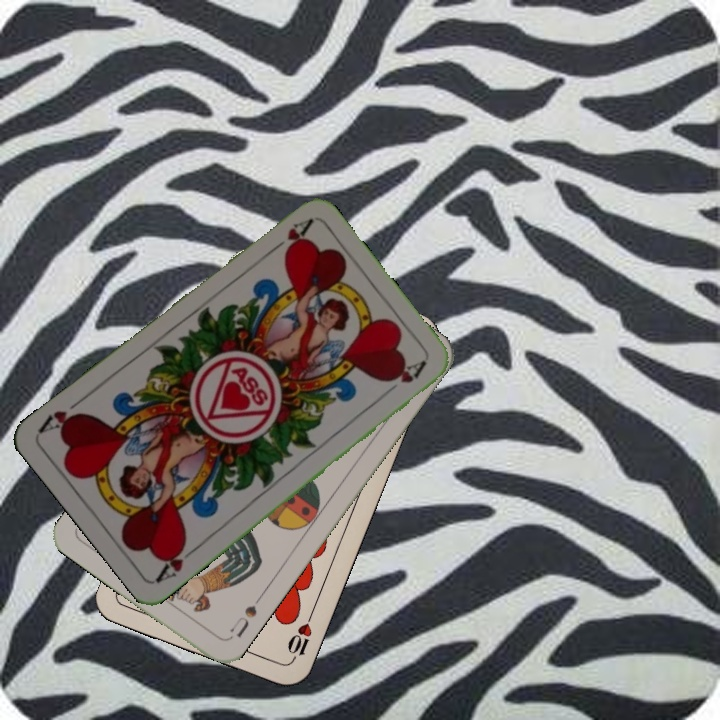H10: (283, 609, 316, 666)
HA: (152, 538, 202, 585), (264, 215, 315, 257)
SU: (226, 591, 265, 640)
